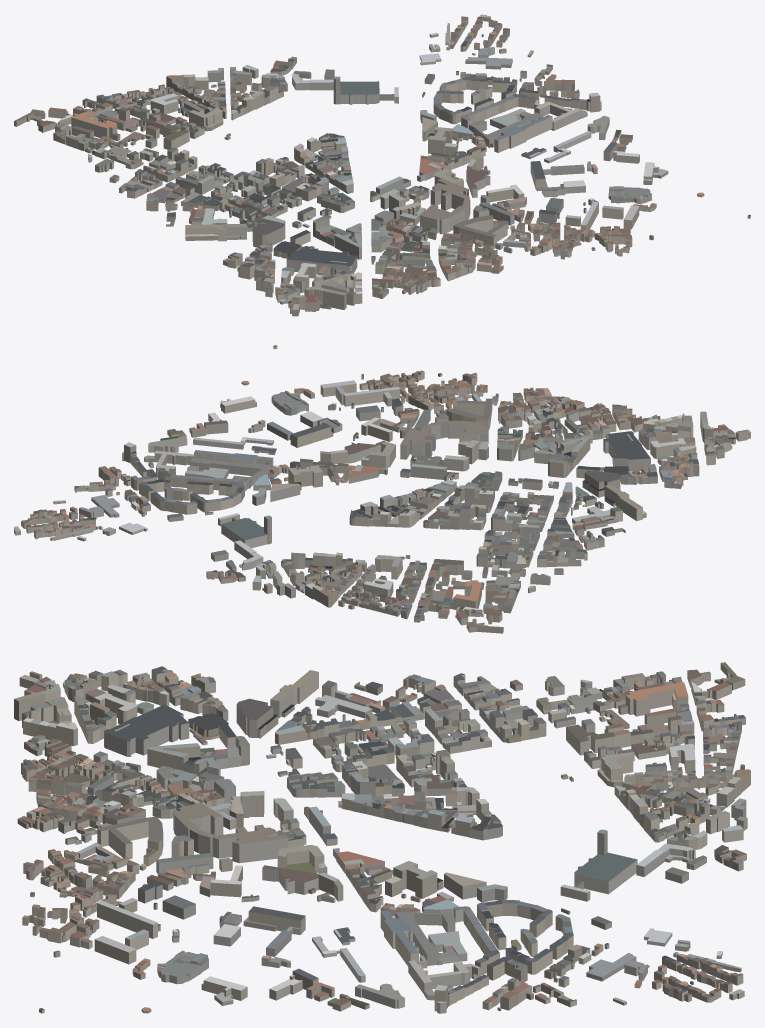
3 renders of one model, top to bottom at view 1: azimuth 30°, elevation 25°; view 2: azimuth 150°, elevation 25°; view 3: azimuth 270°, elevation 25°, orthographic. The views are drawn at different scales.
Visible parts, largest first — view 1: tuile; view 2: tuile; view 3: tuile.
Part boxes in pixels (x1,y1,x2,y2): tuile: (14, 14, 750, 316); tuile: (14, 345, 750, 633); tuile: (14, 662, 750, 1013).
Size of the model in its own units: 1038 by 82.74 by 1027.
